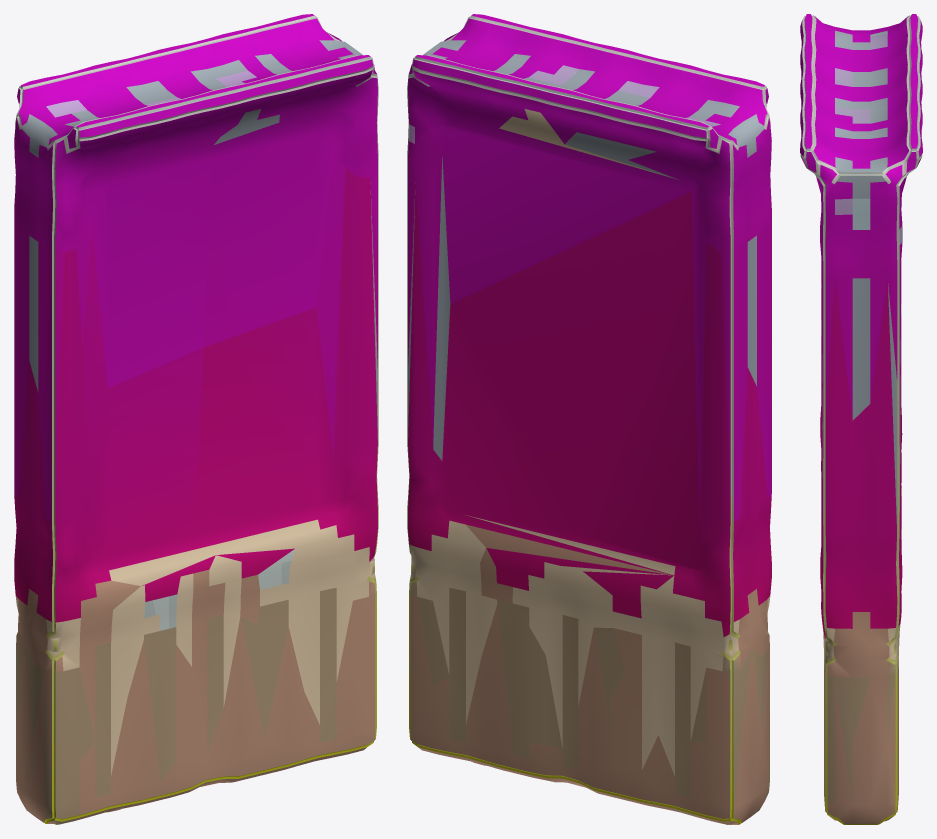
The model's file is wl_fuel_billboard.glb.
3 views of the same model, side by side, from view 1: azimuth 30°, elevation 25°; view 2: azimuth 150°, elevation 25°; view 3: azimuth 270°, elevation 25° (orthographic). The views are drawn at different scales.
Parts seen in each view (by area): view 1: wl_fuel_billboard; view 2: wl_fuel_billboard; view 3: wl_fuel_billboard.
Boxes of the visible parts, left/top/right/bottom form: wl_fuel_billboard: left=14, top=14, right=378, bottom=824; wl_fuel_billboard: left=407, top=14, right=771, bottom=824; wl_fuel_billboard: left=800, top=14, right=922, bottom=824.
Bounding box in the file's own units: 2.46 × 4.97 × 0.8247.
